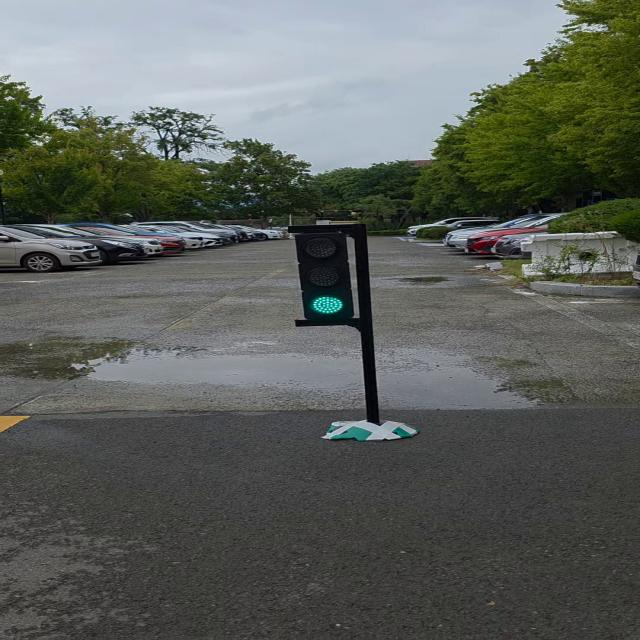green: (295, 227, 369, 325)
